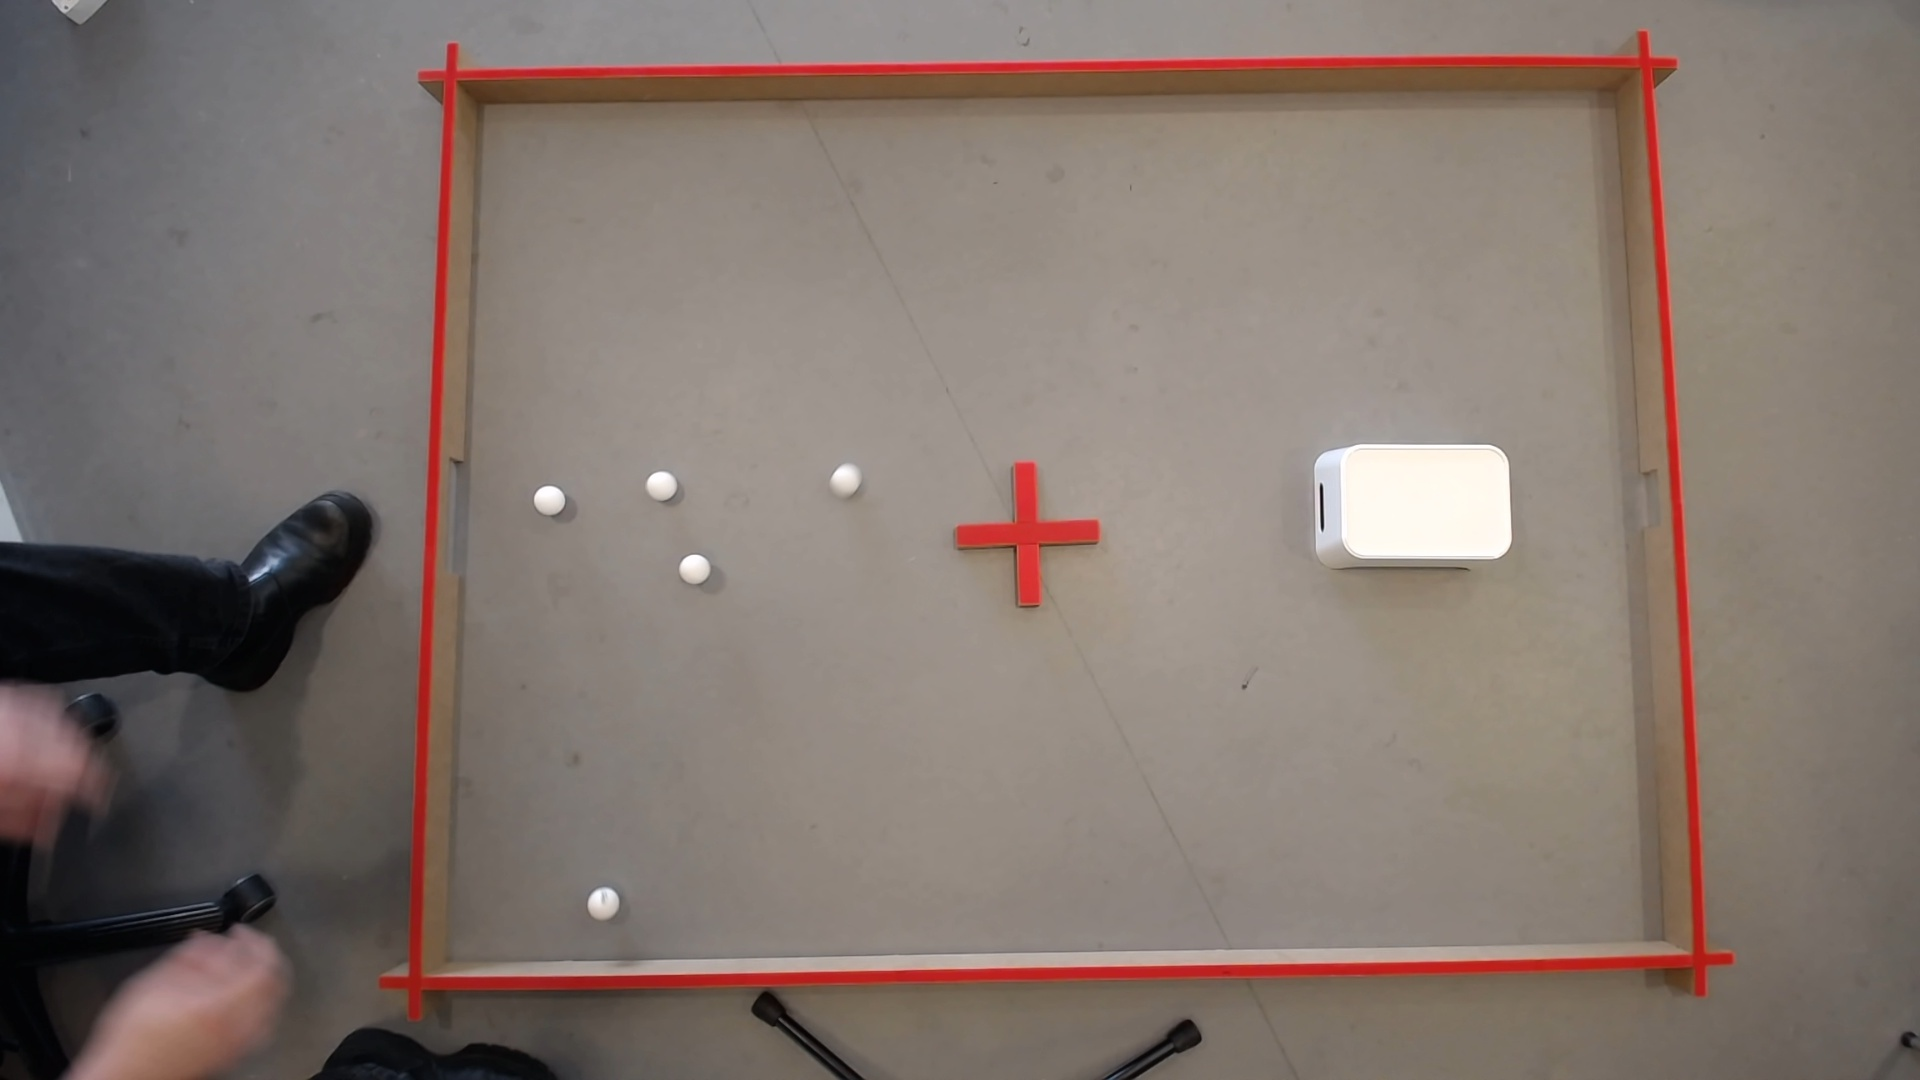balls: (642, 464, 678, 498), (676, 549, 711, 582), (585, 882, 618, 915), (829, 459, 860, 491), (534, 485, 564, 509)
car: (1360, 447, 1458, 450)
